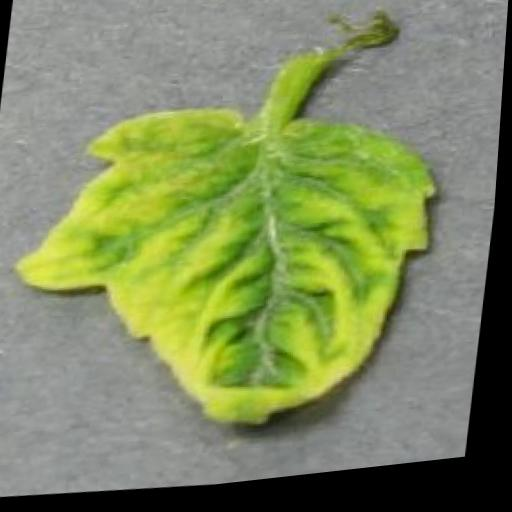Yellow Leaf Curl Virus: (3, 85, 455, 462)
